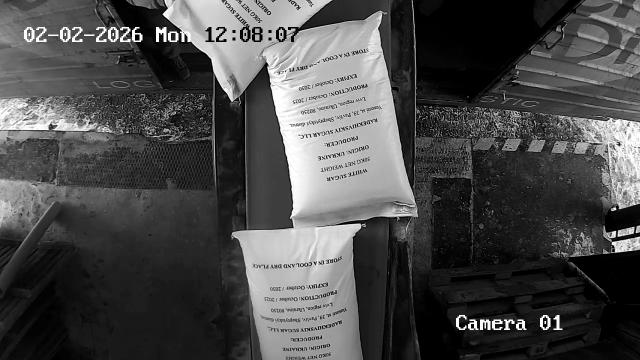bag: (262, 11, 418, 228), (233, 223, 364, 360), (164, 0, 333, 101)
